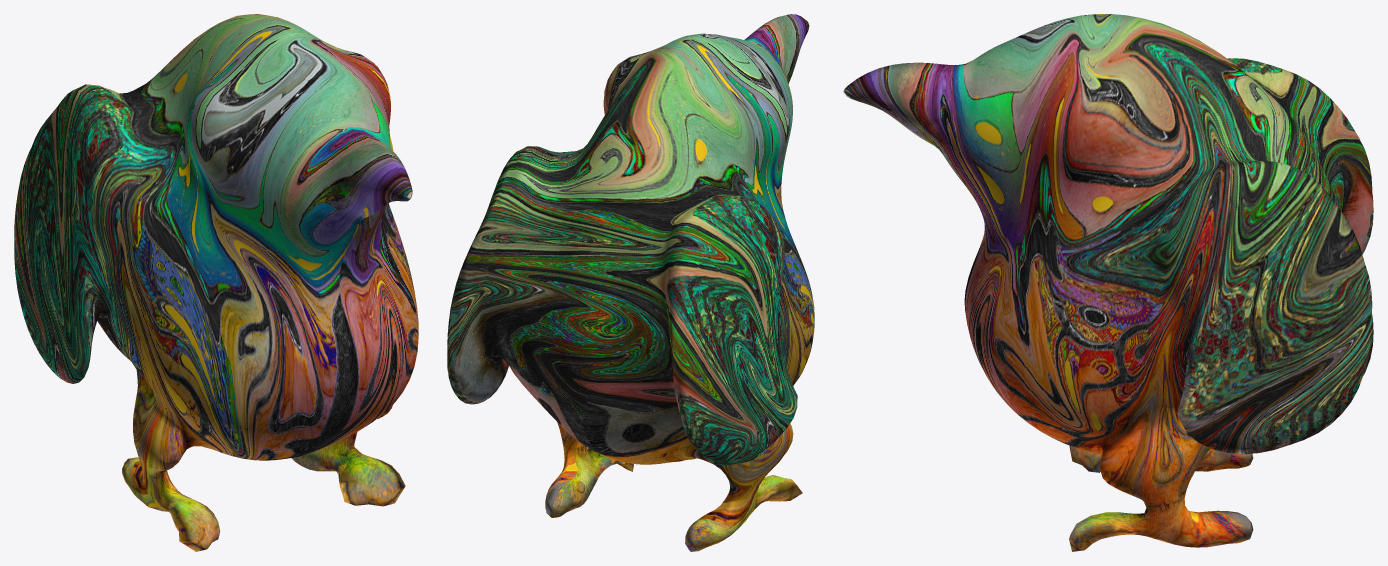
File: birdee-swirl-small.glb
3 renders of one model, left to right at view 1: azimuth 30°, elevation 25°; view 2: azimuth 150°, elevation 25°; view 3: azimuth 270°, elevation 25°, orthographic. The views are drawn at different scales.
Parts seen in each view (by area): view 1: Bird; view 2: Bird; view 3: Bird.
Part boxes in pixels (left/top/right/bottom): Bird: left=14, top=14, right=418, bottom=551; Bird: left=447, top=14, right=814, bottom=551; Bird: left=843, top=14, right=1373, bottom=551.
Size of the model in its own units: 15.55 by 22.96 by 22.46.
1 material, 1 textured.
